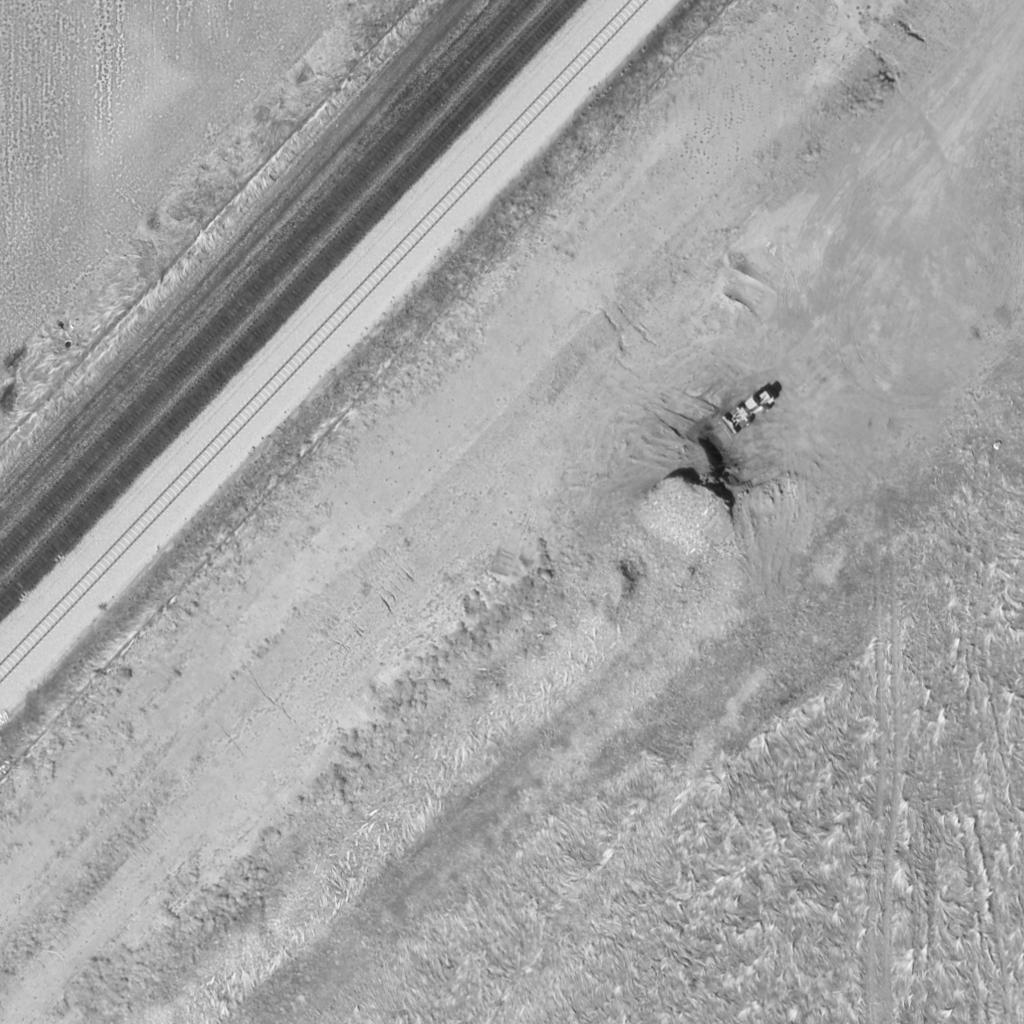vehicle: (716, 387, 778, 441)
